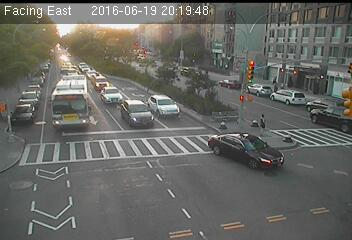neg: (18, 103, 34, 125), (48, 100, 58, 114), (72, 98, 80, 107)
pos: (253, 111, 274, 139)
